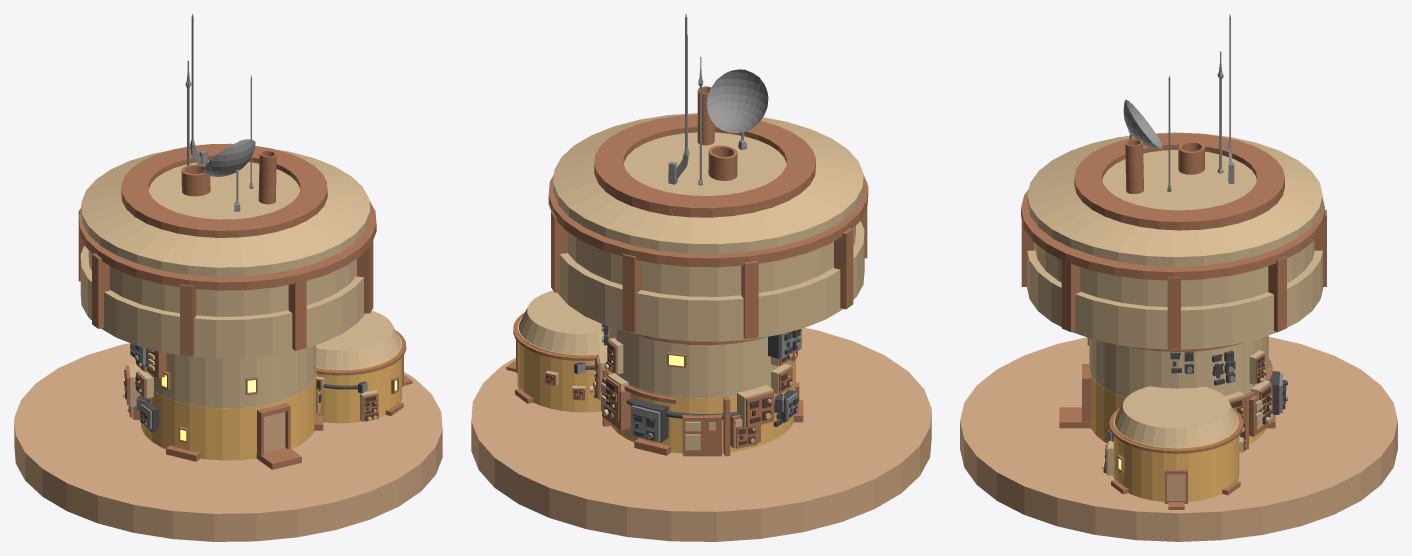
File: nomad_building_10.fbx
3 views of the same model, side by side, from view 1: azimuth 30°, elevation 25°; view 2: azimuth 150°, elevation 25°; view 3: azimuth 270°, elevation 25° (orthographic). The views are drawn at different scales.
Parts seen in each view (by area): view 1: B10_M_Foundation_foundation, B10_M_Crown_RoofCap_Brim, B10_M_Crown_RoofCap_BandUpper, B10_M_Drum1, B10_M_Drum0, B10_M_Crown_RoofCap_BandBrim, B10_M_Crown_RoofCap_ColumnRing, B10_A1_Crown_TowerBody_RoofCap, B10_A1_Drum0, B10_M_Dish0_AntennaDish_Reflector, B10_M_Stack1_TowerBody_StackNarrow, B10_M_Stack0_TowerBody_StackWide (+5 smaller); view 2: B10_M_Foundation_foundation, B10_M_Crown_RoofCap_Brim, B10_M_Crown_RoofCap_BandUpper, B10_M_Drum1, B10_M_Crown_RoofCap_ColumnRing, B10_M_Crown_RoofCap_BandBrim, B10_A1_Crown_TowerBody_RoofCap, B10_A1_Drum0, B10_M_Dish0_AntennaDish_Reflector, B10_M_Drum0, B10_M_Gear4_PanelBox_Body, B10_M_Stack0_TowerBody_StackWide (+6 smaller); view 3: B10_M_Foundation_foundation, B10_M_Crown_RoofCap_Brim, B10_M_Crown_RoofCap_BandUpper, B10_M_Drum1, B10_A1_Crown_TowerBody_RoofCap, B10_A1_Drum0, B10_M_Crown_RoofCap_BandBrim, B10_M_Crown_RoofCap_ColumnRing, B10_M_Drum0, B10_M_Stack1_TowerBody_StackNarrow, B10_M_Dish0_AntennaDish_Reflector, B10_A1_Ring00_TowerTrim_BandThin (+2 smaller).
Part boxes in pixels (x1,y1,x2,y2): B10_M_Foundation_foundation: [14, 343, 442, 541]; B10_M_Crown_RoofCap_Brim: [80, 149, 370, 358]; B10_M_Crown_RoofCap_BandUpper: [121, 143, 327, 237]; B10_M_Drum1: [141, 345, 315, 408]; B10_M_Drum0: [140, 372, 316, 460]; B10_M_Crown_RoofCap_BandBrim: [79, 200, 376, 290]; B10_M_Crown_RoofCap_ColumnRing: [78, 207, 373, 356]; B10_A1_Crown_TowerBody_RoofCap: [316, 310, 400, 369]; B10_A1_Drum0: [316, 334, 401, 423]; B10_M_Dish0_AntennaDish_Reflector: [203, 139, 255, 176]; B10_M_Stack1_TowerBody_StackNarrow: [258, 150, 276, 204]; B10_M_Stack0_TowerBody_StackWide: [181, 164, 210, 196]; B10_M_Foundation_foundation: [471, 328, 931, 541]; B10_M_Crown_RoofCap_Brim: [553, 113, 864, 341]; B10_M_Crown_RoofCap_BandUpper: [594, 114, 815, 217]; B10_M_Drum1: [607, 326, 795, 398]; B10_M_Crown_RoofCap_ColumnRing: [551, 182, 867, 339]; B10_M_Crown_RoofCap_BandBrim: [548, 174, 868, 267]; B10_A1_Crown_TowerBody_RoofCap: [519, 290, 607, 354]; B10_A1_Drum0: [517, 317, 601, 412]; B10_M_Dish0_AntennaDish_Reflector: [707, 69, 768, 133]; B10_M_Drum0: [611, 359, 795, 453]; B10_M_Gear4_PanelBox_Body: [682, 413, 721, 456]; B10_M_Stack0_TowerBody_StackWide: [708, 145, 737, 180]; B10_M_Foundation_foundation: [960, 337, 1397, 541]; B10_M_Crown_RoofCap_Brim: [1026, 132, 1323, 349]; B10_M_Crown_RoofCap_BandUpper: [1074, 133, 1284, 230]; B10_M_Drum1: [1089, 335, 1268, 397]; B10_A1_Crown_TowerBody_RoofCap: [1114, 386, 1237, 447]; B10_A1_Drum0: [1113, 413, 1239, 501]; B10_M_Crown_RoofCap_BandBrim: [1021, 189, 1324, 280]; B10_M_Crown_RoofCap_ColumnRing: [1021, 210, 1326, 349]; B10_M_Drum0: [1089, 368, 1268, 443]; B10_M_Stack1_TowerBody_StackNarrow: [1125, 139, 1143, 193]; B10_M_Dish0_AntennaDish_Reflector: [1123, 99, 1162, 149]; B10_A1_Ring00_TowerTrim_BandThin: [1109, 407, 1243, 453].
Size of the model in its own units: 722 by 782 by 722.
